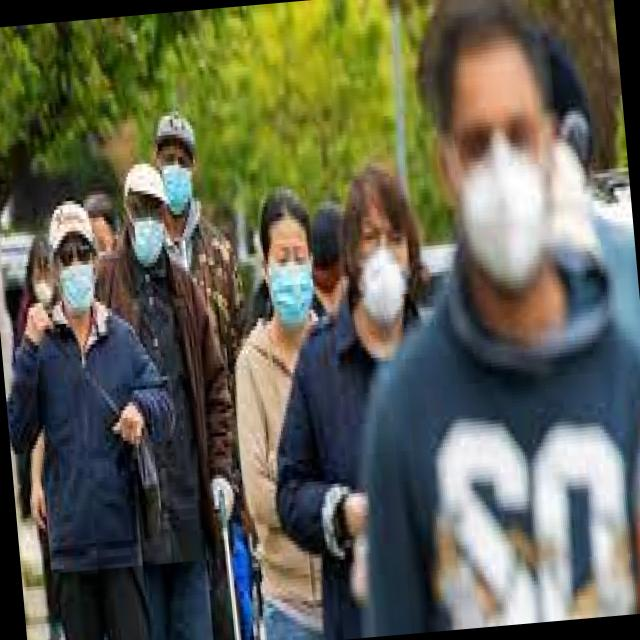Jacket: (262, 310, 469, 640), (0, 294, 181, 579), (86, 237, 240, 558), (217, 302, 348, 596)
